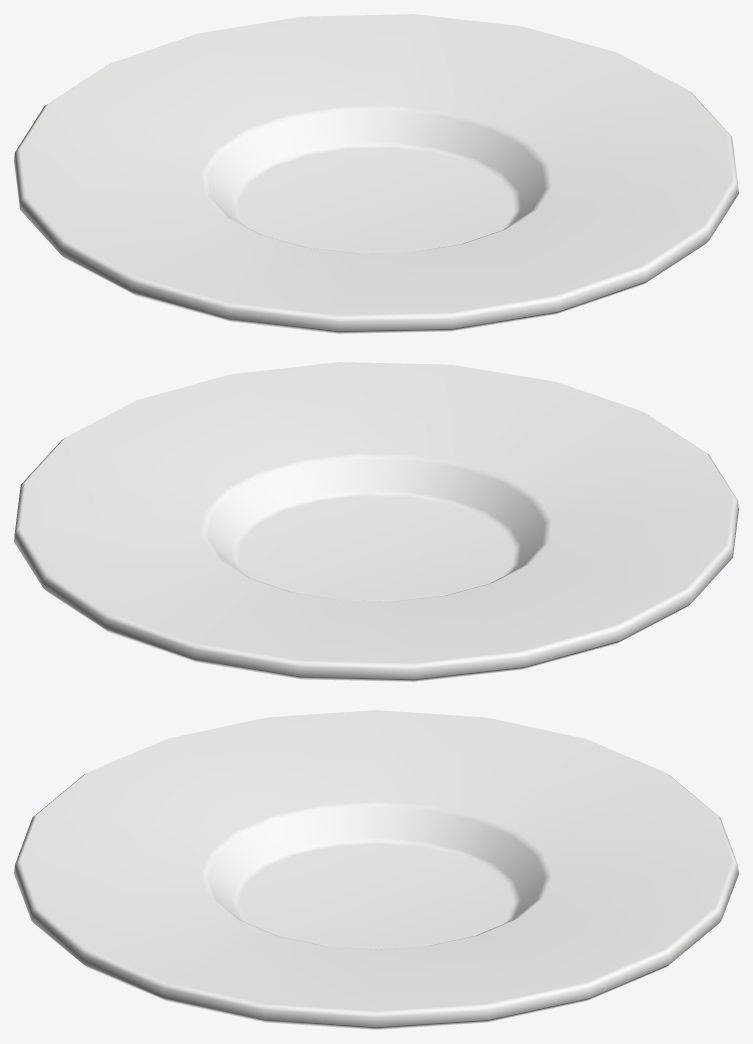
The model's file is Plate_2.glb.
3 renders of one model, top to bottom at view 1: azimuth 30°, elevation 25°; view 2: azimuth 150°, elevation 25°; view 3: azimuth 270°, elevation 25°, orthographic.
Visible parts, largest first — view 1: Plate_3; view 2: Plate_3; view 3: Plate_3.
Boxes of the visible parts, x1,y1,x2,y2 form: Plate_3: (14, 14, 738, 333); Plate_3: (14, 362, 738, 681); Plate_3: (14, 710, 738, 1029).
Size of the model in its own units: 0.5866 by 0.0533 by 0.5866.
Materials: 1 (1 with a texture image).
